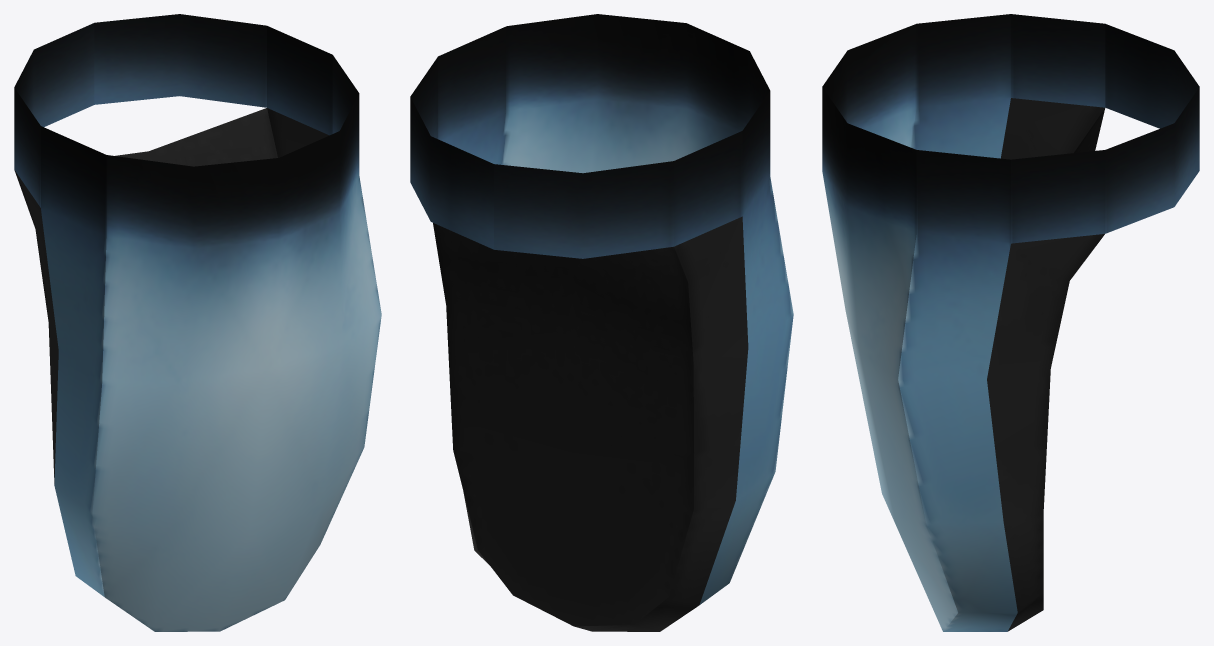
The model's file is Hand_Right.obj.
The picture shows the model from 3 angles, left to right: view 1: azimuth 30°, elevation 25°; view 2: azimuth 150°, elevation 25°; view 3: azimuth 270°, elevation 25°; orthographic projection. The views are drawn at different scales.
Parts seen in each view (by area): view 1: Hand_Right; view 2: Hand_Right; view 3: Hand_Right.
Boxes of the visible parts, box(x1,y1,x2,y2) form: Hand_Right: box(14, 14, 381, 631); Hand_Right: box(410, 14, 793, 631); Hand_Right: box(822, 14, 1199, 631).
Bounding box in the file's own units: 0.0717 × 0.1213 × 0.0785.
1 material, 1 textured.
